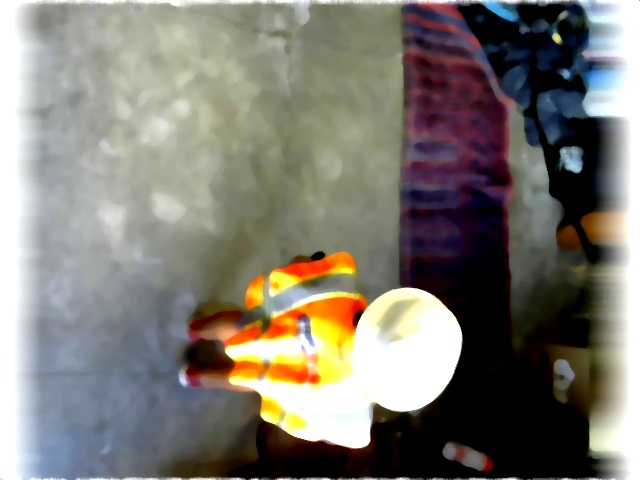eight: (380, 337, 422, 386)
